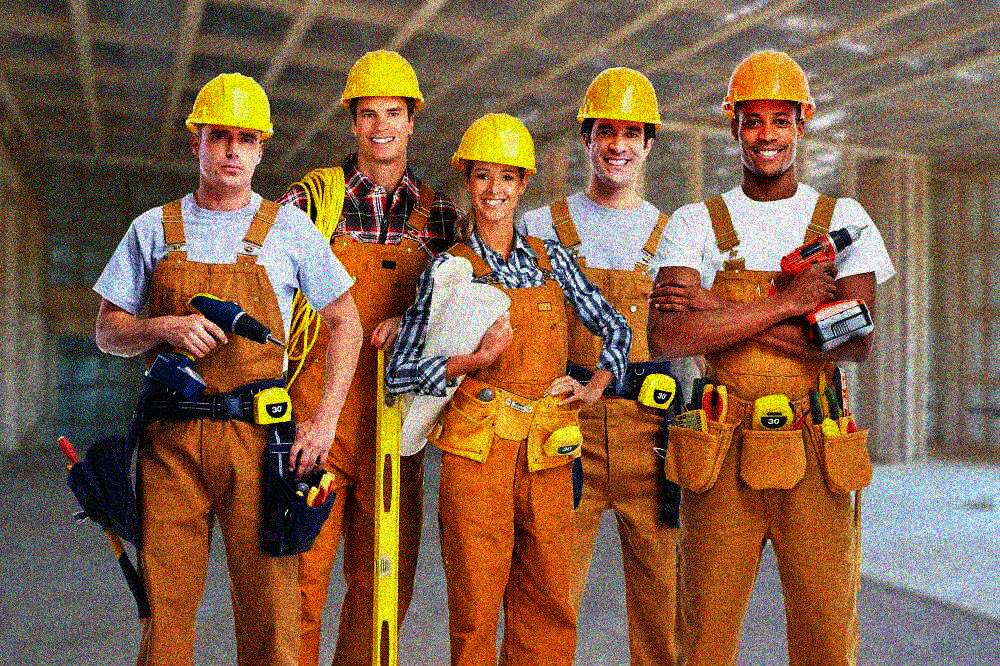helmet: (722, 47, 817, 177), (183, 72, 281, 190), (337, 48, 426, 164), (576, 64, 659, 187), (452, 109, 538, 222)
